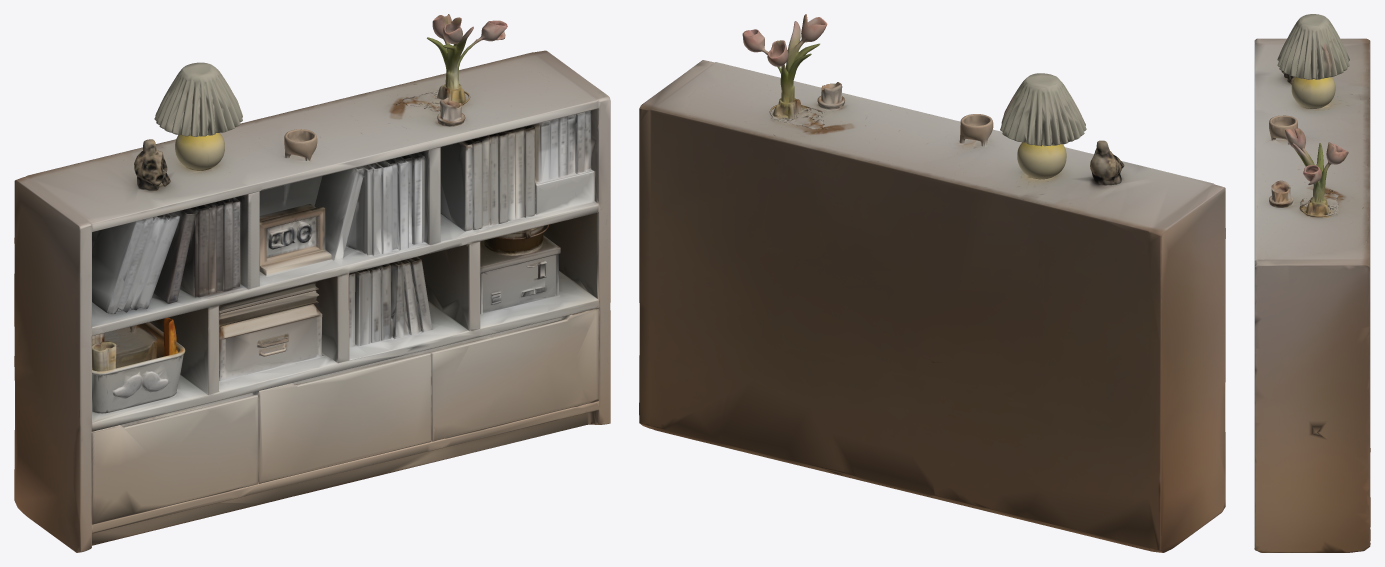
Rendered from new-cabinet.optimized.glb.
The picture shows the model from 3 angles, left to right: view 1: azimuth 30°, elevation 25°; view 2: azimuth 150°, elevation 25°; view 3: azimuth 270°, elevation 25°; orthographic projection. The views are drawn at different scales.
Visible parts, largest first — view 1: node_0; view 2: node_0; view 3: node_0.
Part boxes in pixels (x1,y1,x2,y2): node_0: (14,14,610,552); node_0: (639,14,1225,552); node_0: (1254,14,1370,552).
Bounding box in the file's own units: 0.9442 × 0.7218 × 0.2042.
1 material, 1 textured.
